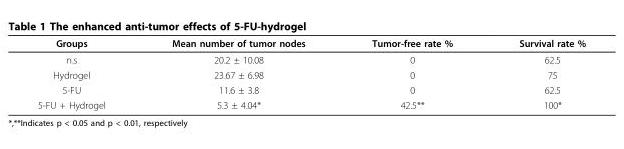table: (37, 37, 585, 110)
table column: (138, 37, 338, 110), (338, 37, 485, 110), (37, 37, 138, 110), (485, 37, 585, 110)
table column header: (37, 37, 585, 51)
table row: (37, 51, 585, 67), (37, 67, 585, 82), (37, 82, 585, 97), (37, 37, 585, 51), (37, 97, 585, 110)
